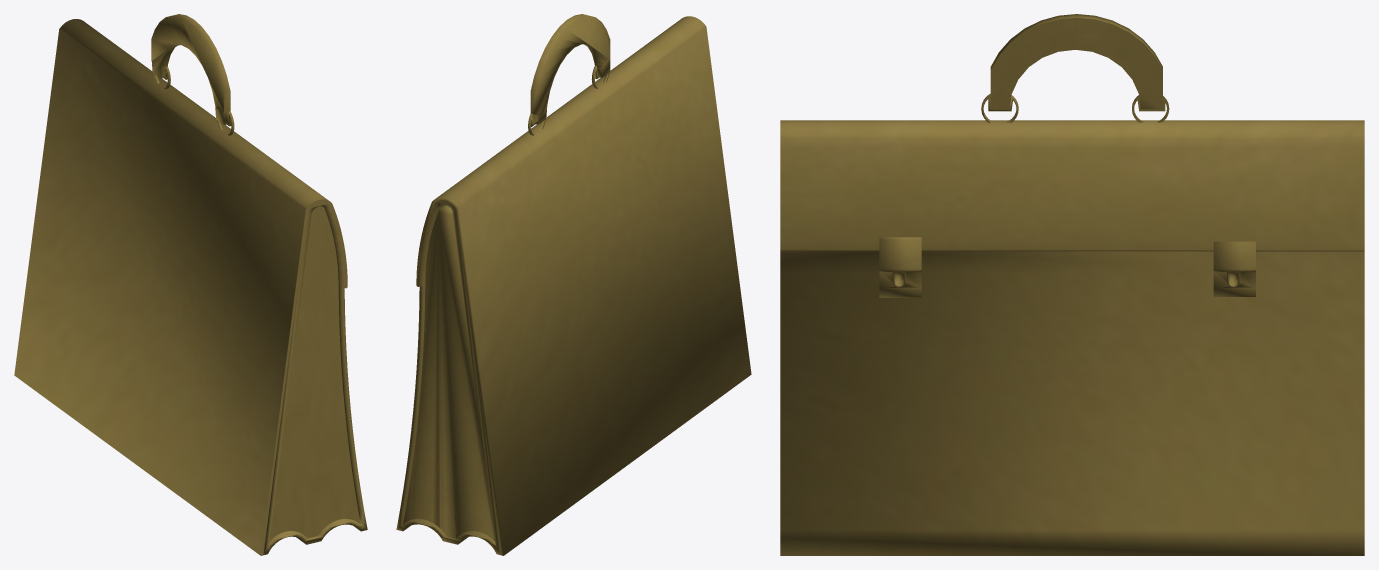
Rendered from briefcase_leather.fbx.
The picture shows the model from 3 angles, left to right: view 1: azimuth 30°, elevation 25°; view 2: azimuth 150°, elevation 25°; view 3: azimuth 270°, elevation 25°; orthographic projection. The views are drawn at different scales.
Parts seen in each view (by area): view 1: briefcase, handle; view 2: briefcase, handle; view 3: briefcase, handle, lock, lock.001.
Boxes of the visible parts, box(x1,y1,x2,y2) form: briefcase: box(14, 19, 367, 555); handle: box(151, 14, 234, 135); briefcase: box(396, 16, 751, 555); handle: box(528, 14, 610, 135); briefcase: box(780, 120, 1364, 555); handle: box(981, 14, 1169, 122); lock: box(879, 237, 921, 297); lock.001: box(1213, 241, 1255, 296).
Bounding box in the file's own units: 0.3458 × 1.33 × 1.38.
